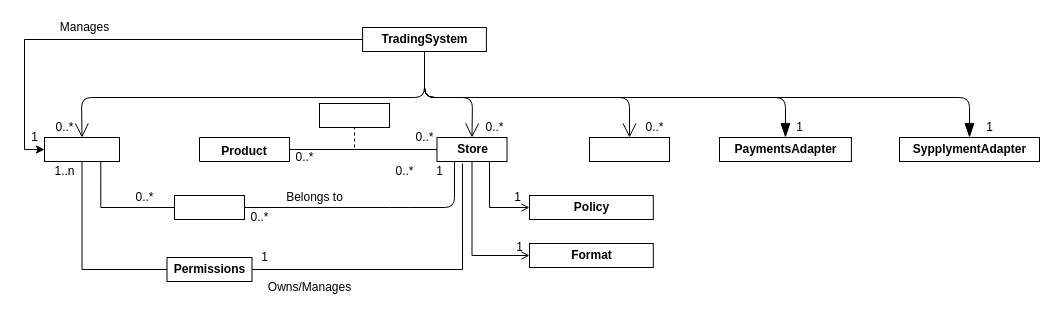
The diagram is 1057 pixels wide and 314 high, and some of its shapes have lost their labels. Here are the shapes that lost their labels. From the top down, the centre of each, then its label:
point (354, 115): Inventory
point (82, 149): User
point (629, 149): Receipt
point (209, 207): Bag
